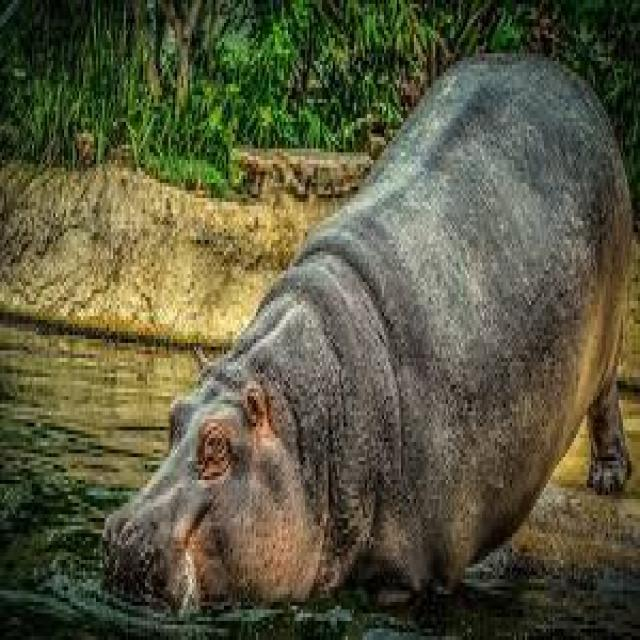Hippopotamus: (100, 54, 630, 606)
